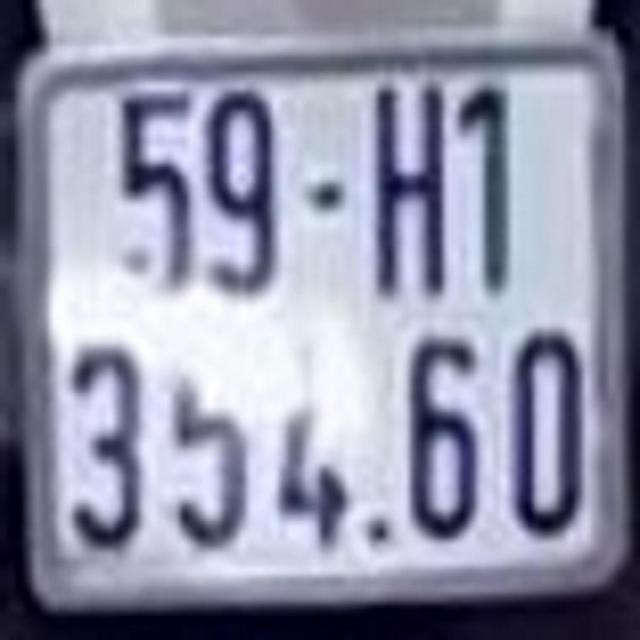0: (511, 320, 580, 540)
1: (464, 90, 516, 301)
3: (70, 345, 146, 554)
4: (280, 348, 347, 550)
5: (168, 336, 250, 551), (120, 86, 190, 300)
6: (399, 336, 485, 538)
9: (203, 89, 277, 296)
H: (372, 84, 432, 266)
